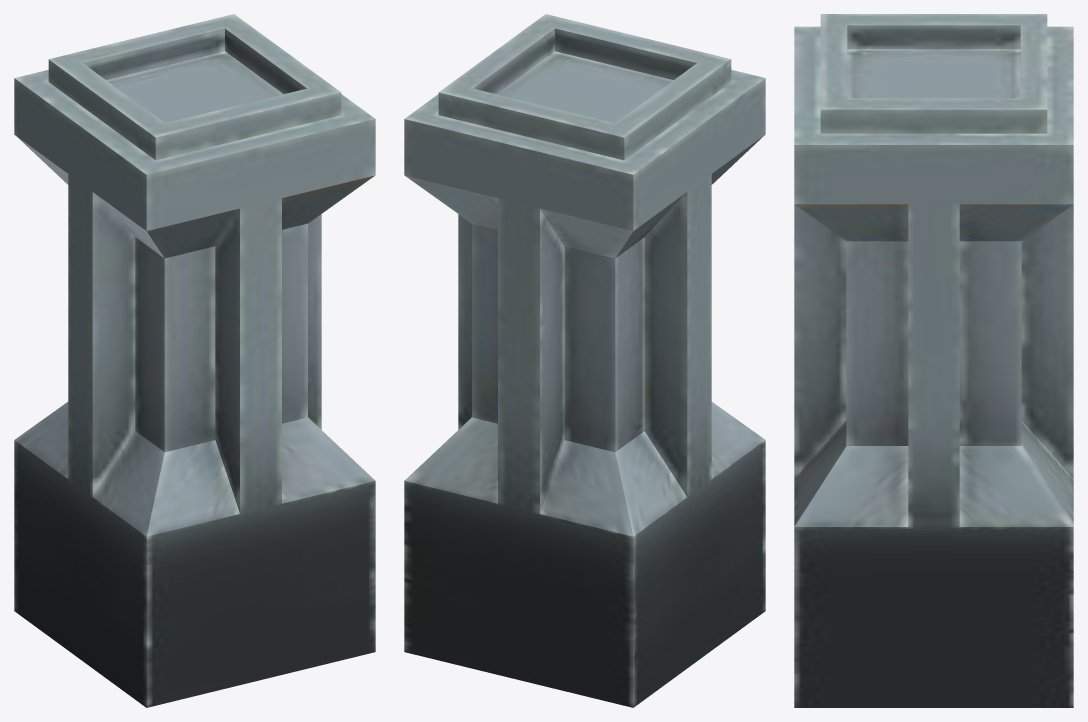
File: pillar_half.glb
The picture shows the model from 3 angles, left to right: view 1: azimuth 30°, elevation 25°; view 2: azimuth 150°, elevation 25°; view 3: azimuth 270°, elevation 25°; orthographic projection. The views are drawn at different scales.
Visible parts, largest first — view 1: Post_Half_1.001; view 2: Post_Half_1.001; view 3: Post_Half_1.001.
Part boxes in pixels (bbox=[...]): Post_Half_1.001: bbox=[14, 14, 375, 707]; Post_Half_1.001: bbox=[404, 14, 765, 707]; Post_Half_1.001: bbox=[794, 14, 1073, 707].
Size of the model in its own units: 0.69 by 1.6 by 0.69.
Materials: 1 (1 with a texture image).
